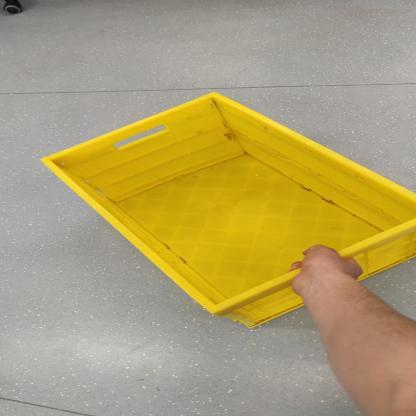-: (29, 83, 416, 334)
